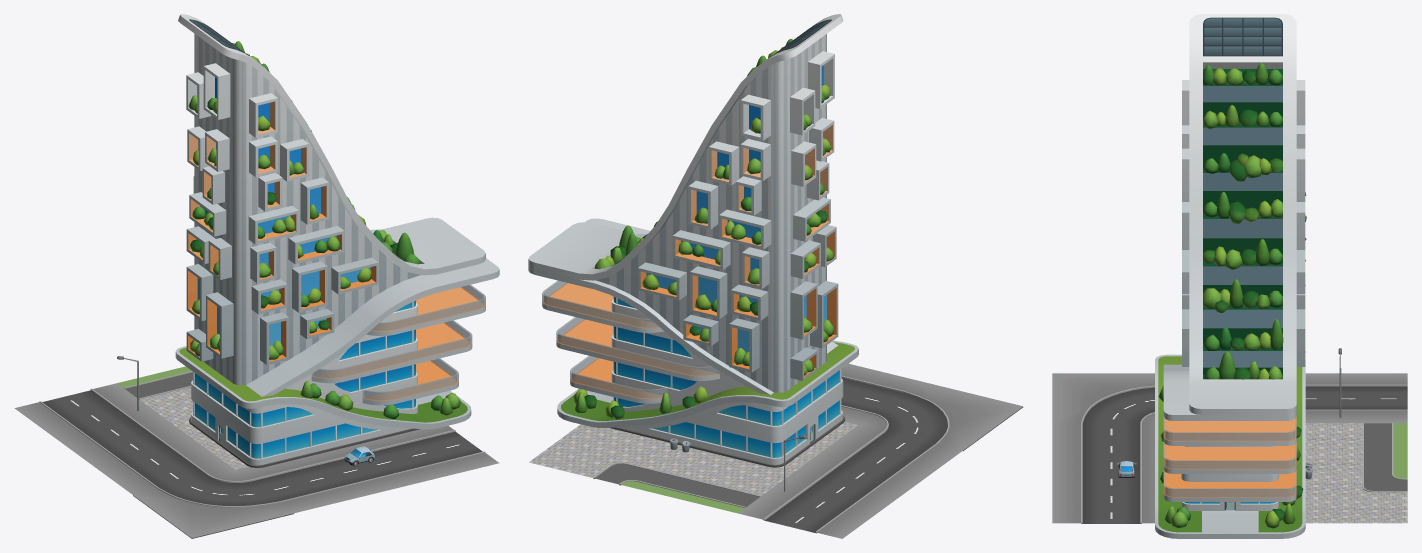
Rendered from north-west.gltf.
The picture shows the model from 3 angles, left to right: view 1: azimuth 30°, elevation 25°; view 2: azimuth 150°, elevation 25°; view 3: azimuth 270°, elevation 25°; orthographic projection.
Visible parts, largest first — view 1: Eco_Building_Slope.004, road_013.036, road_009.231, road_009.232, road_009.010, road_009.011, Set_B_Tiles_05.014, Set_B_Tiles_09.017; view 2: Eco_Building_Slope.004, road_013.036, road_009.231, road_009.232, Set_B_Tiles_05.014, Set_B_Tiles_06.005, road_009.010, Set_B_Tiles_09.017; view 3: Eco_Building_Slope.004, road_013.036, Set_B_Tiles_06.005, road_009.232, Set_B_Tiles_05.014, road_009.011, road_009.010.
Part boxes in pixels (<box>): Eco_Building_Slope.004: <box>175,14,499,467</box>; road_013.036: <box>133,470,294,538</box>; road_009.231: <box>74,426,234,494</box>; road_009.232: <box>14,383,175,451</box>; road_009.010: <box>236,448,396,513</box>; road_009.011: <box>343,425,499,487</box>; Set_B_Tiles_05.014: <box>117,366,192,426</box>; Set_B_Tiles_09.017: <box>176,423,248,469</box>; Eco_Building_Slope.004: <box>528,14,858,467</box>; road_013.036: <box>859,381,1023,450</box>; road_009.231: <box>798,425,962,494</box>; road_009.232: <box>738,469,902,538</box>; Set_B_Tiles_05.014: <box>633,447,797,513</box>; Set_B_Tiles_06.005: <box>529,424,682,487</box>; road_009.010: <box>841,363,918,424</box>; Set_B_Tiles_09.017: <box>785,421,857,468</box>; Eco_Building_Slope.004: <box>1155,14,1306,538</box>; road_013.036: <box>1052,373,1154,423</box>; Set_B_Tiles_06.005: <box>1305,472,1407,523</box>; road_009.232: <box>1305,373,1407,423</box>; Set_B_Tiles_05.014: <box>1305,422,1407,473</box>; road_009.011: <box>1052,472,1154,523</box>; road_009.010: <box>1052,422,1154,473</box>.
Size of the model in its own units: 53.69 by 57.49 by 45.
11 materials, 9 textured.
